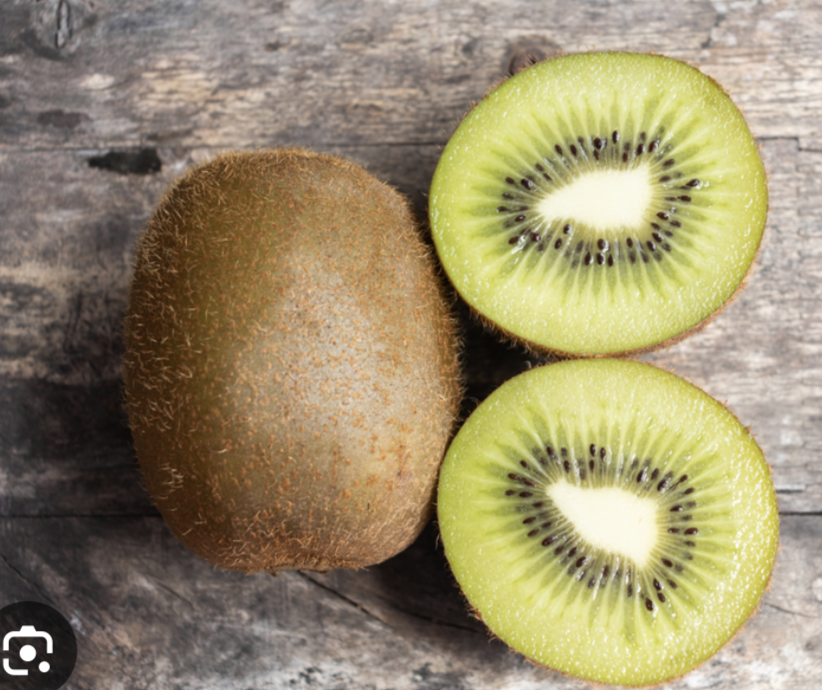kiwi: (84, 130, 502, 619)
